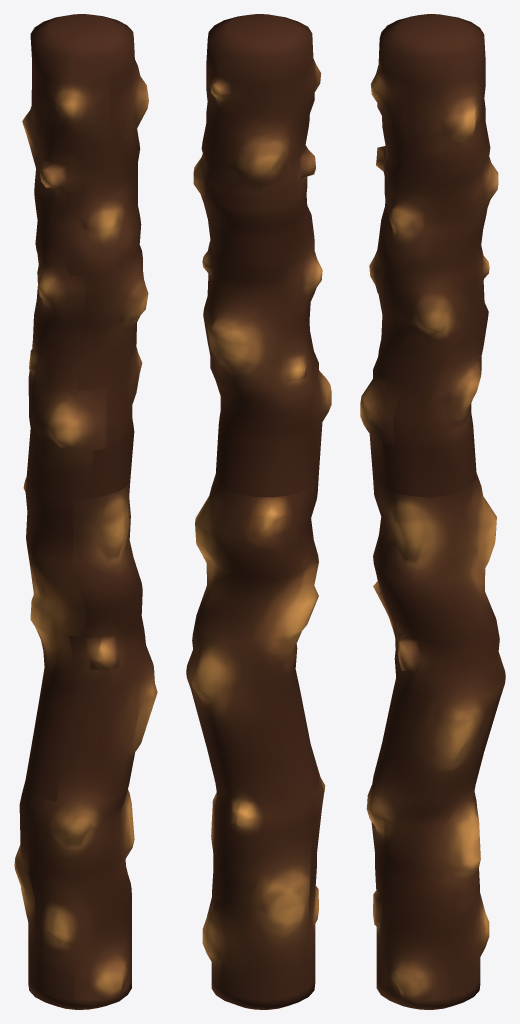
File: koeda hashigo-2.fbx
3 views of the same model, side by side, from view 1: azimuth 30°, elevation 25°; view 2: azimuth 150°, elevation 25°; view 3: azimuth 330°, elevation 25° (orthographic).
Visible parts, largest first — view 1: pCylinder6; view 2: pCylinder6; view 3: pCylinder6.
Part boxes in pixels (x1,y1,x2,y2): pCylinder6: (14,14,157,1009); pCylinder6: (186,14,331,1009); pCylinder6: (360,14,505,1009).
Bounding box in the file's own units: 6.45 × 49.22 × 6.06.
